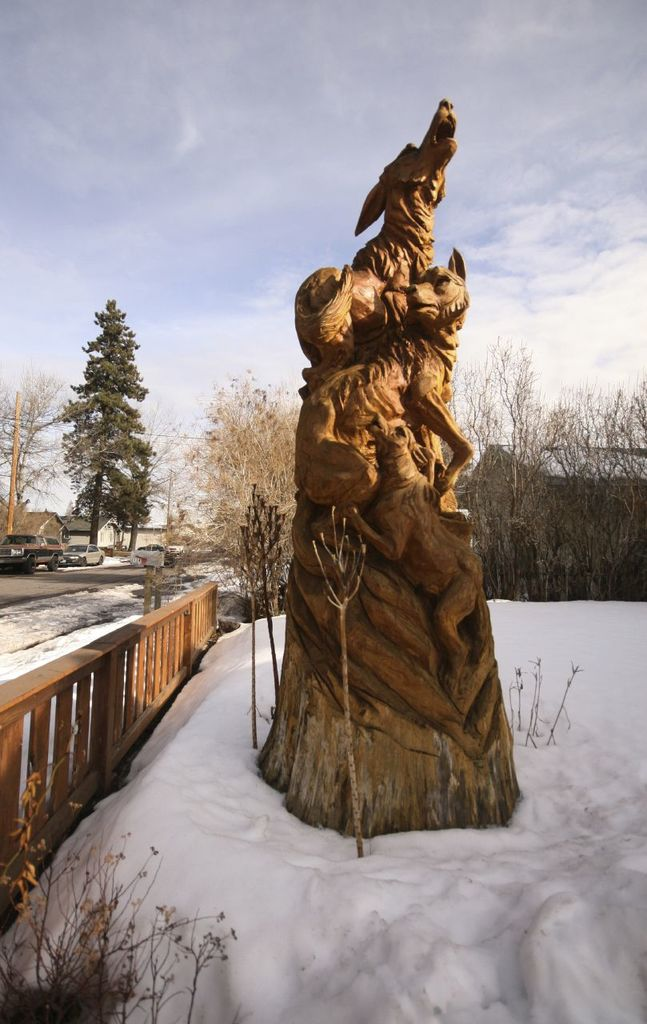Animal: (288, 95, 478, 700)
